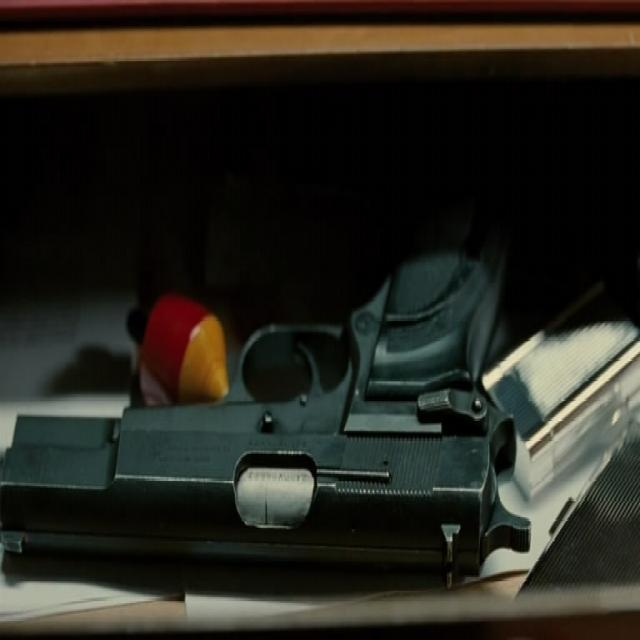gun-knife-thesis - v11 Yolov5 augmented: (7, 210, 556, 613)
